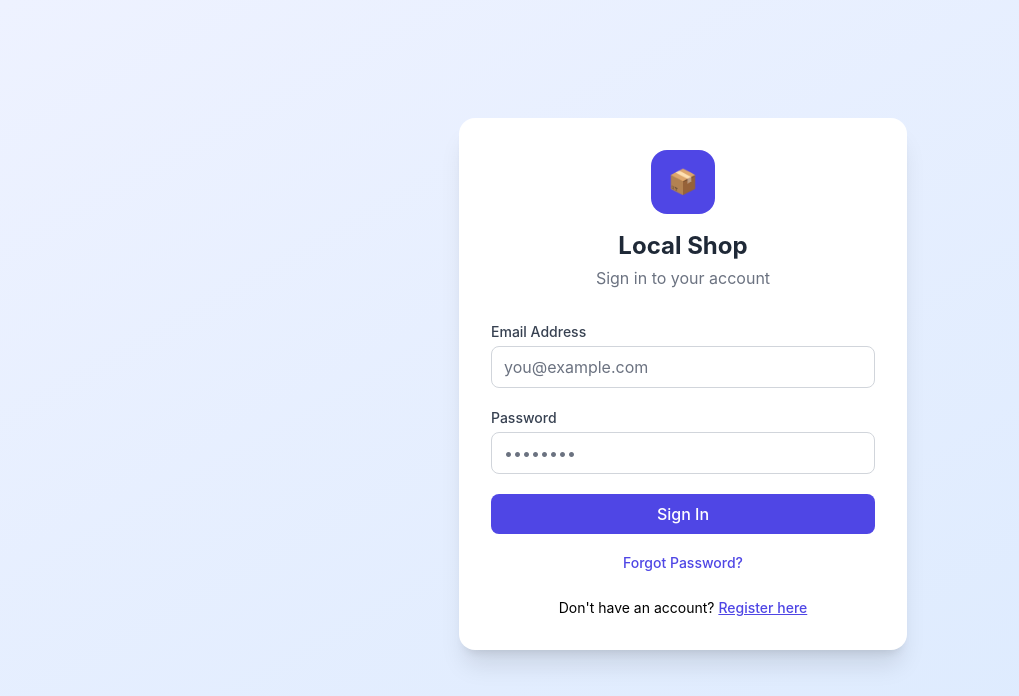
it: Login Page › shows validation error when password is empty
Type "test@gmail.com" into the field with placeholder "you@example.com" at (683, 367), box [491,346,875,388]
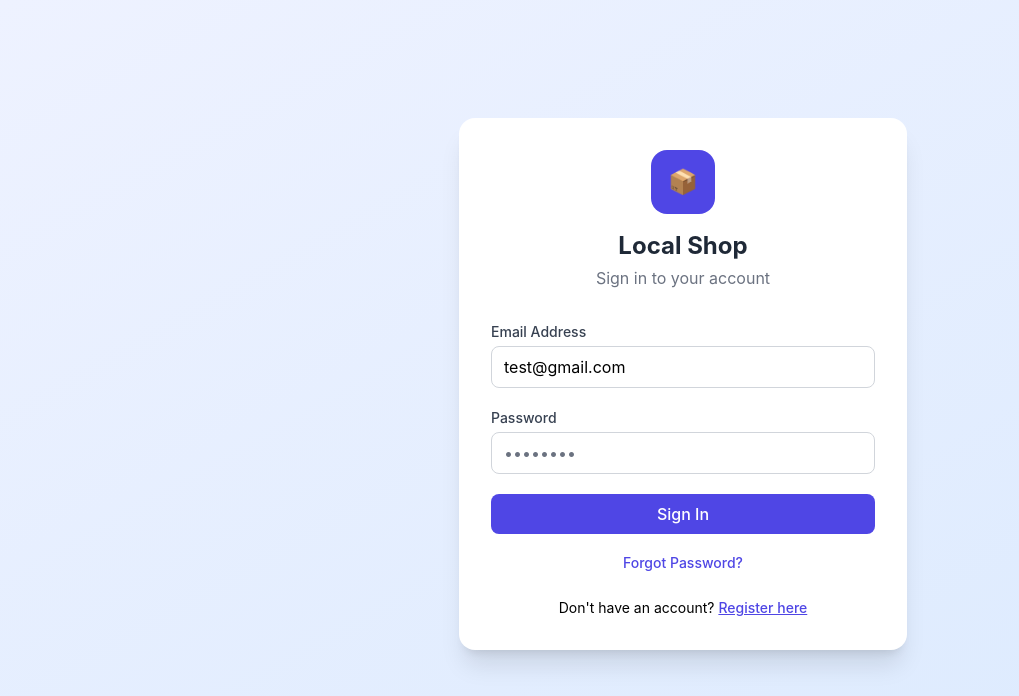
Click the button "Sign In" at (683, 514), box [491,494,875,534]
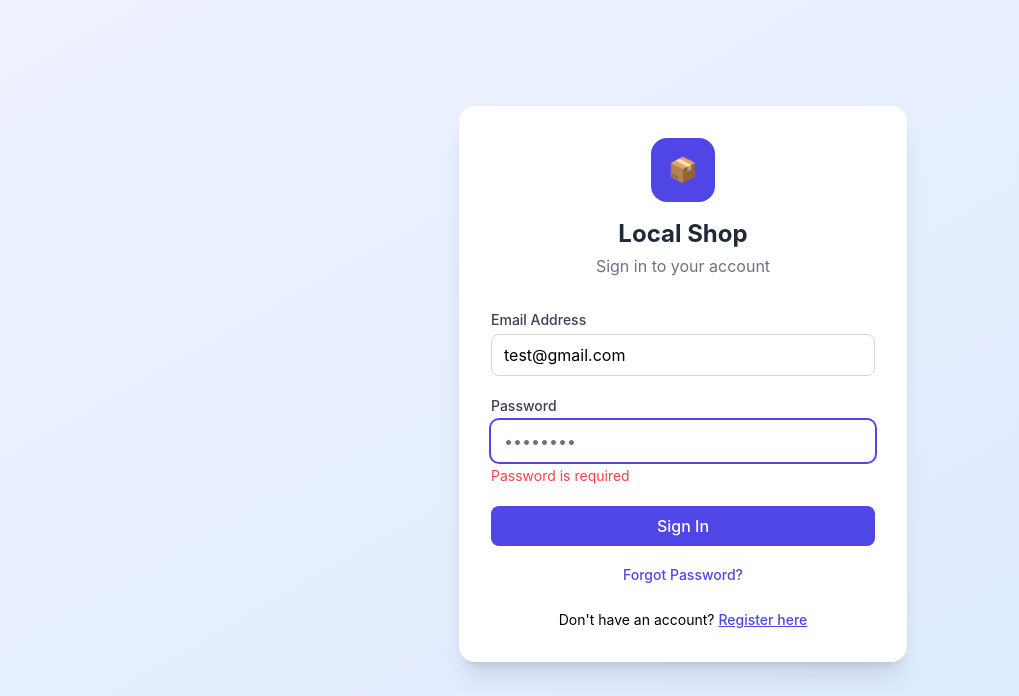
Expected: the text "Password is required" is shown, [491,467,630,484]
